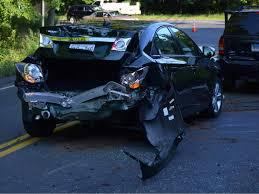Taillight-Damage: (113, 58, 144, 89)
rear-bumper-dent: (25, 89, 122, 118)
